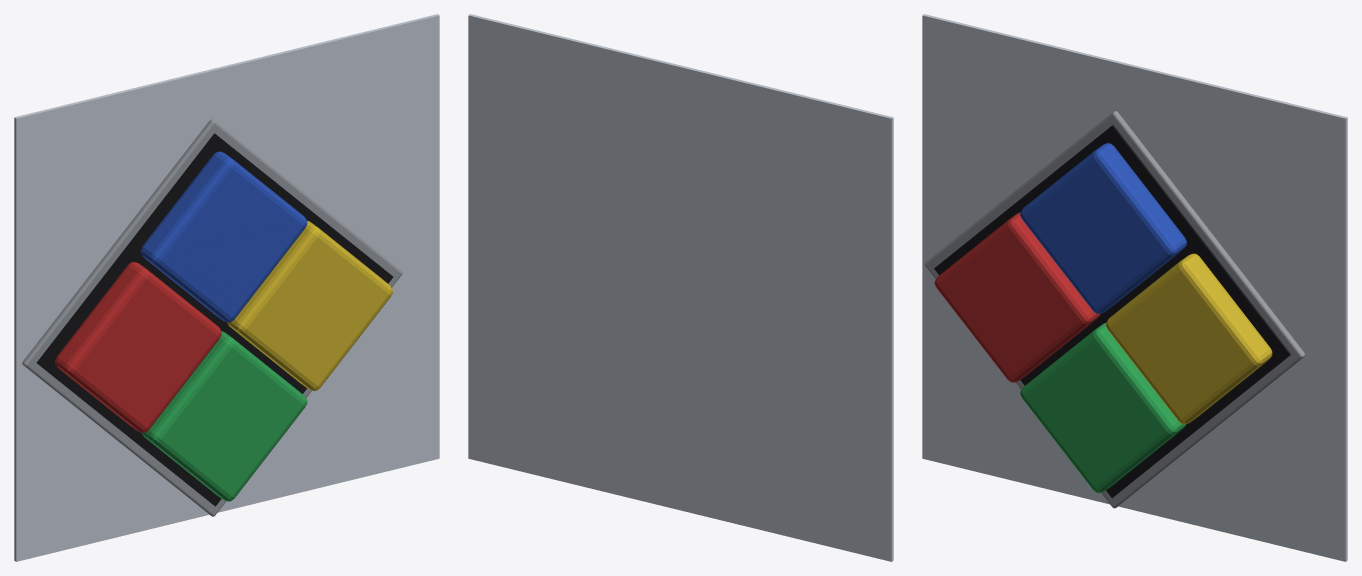
The model's file is simon_module.glb.
3 renders of one model, left to right at view 1: azimuth 30°, elevation 25°; view 2: azimuth 150°, elevation 25°; view 3: azimuth 330°, elevation 25°, orthographic.
Parts seen in each view (by area): view 1: simon_plate, part_blue, part_red, part_green, part_yellow, simon_well, simon_tray; view 2: simon_plate; view 3: simon_plate, part_blue, part_yellow, part_red, part_green, simon_well, simon_tray.
Boxes of the visible parts, x1=… form: simon_plate: x1=14, y1=14, x2=439, y2=561; part_blue: x1=140, y1=151, x2=307, y2=322; part_red: x1=55, y1=262, x2=221, y2=432; part_green: x1=141, y1=331, x2=307, y2=501; part_yellow: x1=227, y1=220, x2=392, y2=390; simon_well: x1=36, y1=133, x2=393, y2=506; simon_tray: x1=22, y1=119, x2=402, y2=516; simon_plate: x1=468, y1=14, x2=893, y2=561; simon_plate: x1=922, y1=14, x2=1347, y2=561; part_blue: x1=1020, y1=143, x2=1186, y2=313; part_yellow: x1=1106, y1=253, x2=1272, y2=424; part_red: x1=934, y1=212, x2=1100, y2=382; part_green: x1=1020, y1=323, x2=1185, y2=493; simon_well: x1=934, y1=125, x2=1290, y2=497; simon_tray: x1=925, y1=111, x2=1305, y2=508.
Bounding box in the file's own units: 0.74 × 0.7405 × 0.071.
